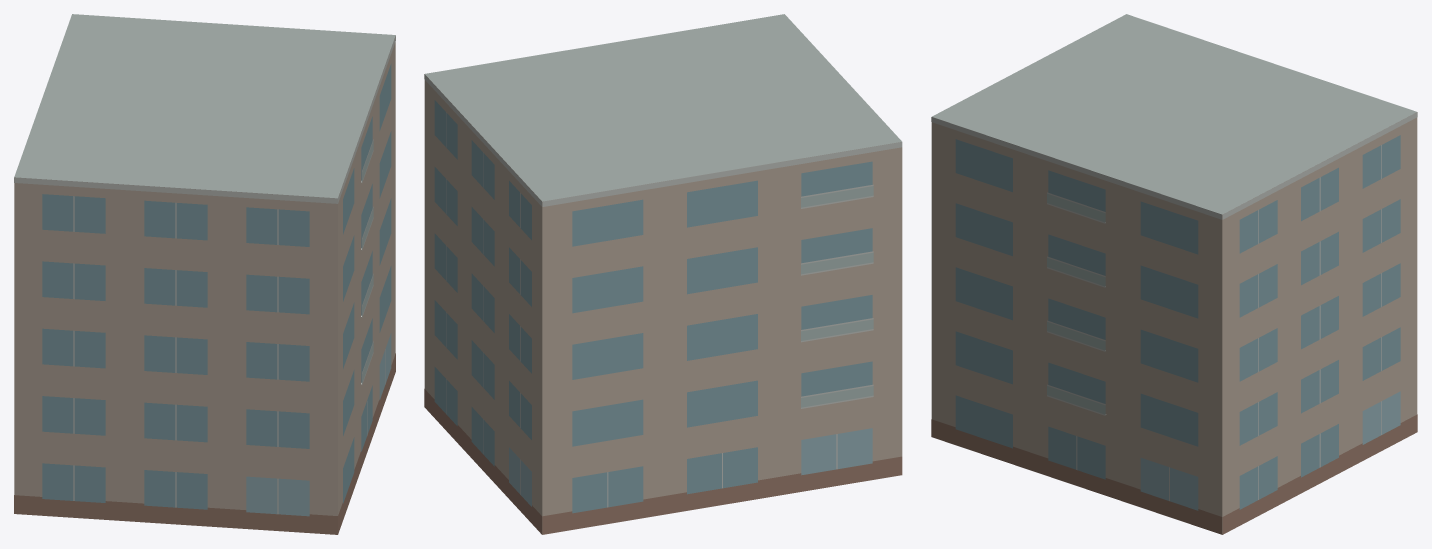
File: survey-upis-32843973.glb
3 renders of one model, left to right at view 1: azimuth 30°, elevation 25°; view 2: azimuth 150°, elevation 25°; view 3: azimuth 270°, elevation 25°, orthographic. The views are drawn at different scales.
Parts seen in each view (by area): view 1: survey-upis-32843973.tmp; view 2: survey-upis-32843973.tmp; view 3: survey-upis-32843973.tmp.
Boxes of the visible parts, <box> form: survey-upis-32843973.tmp: <box>14,14,395,534</box>; survey-upis-32843973.tmp: <box>424,14,902,534</box>; survey-upis-32843973.tmp: <box>931,14,1417,534</box>.
Bounding box in the file's own units: 19.76 × 14.7 × 20.22.
